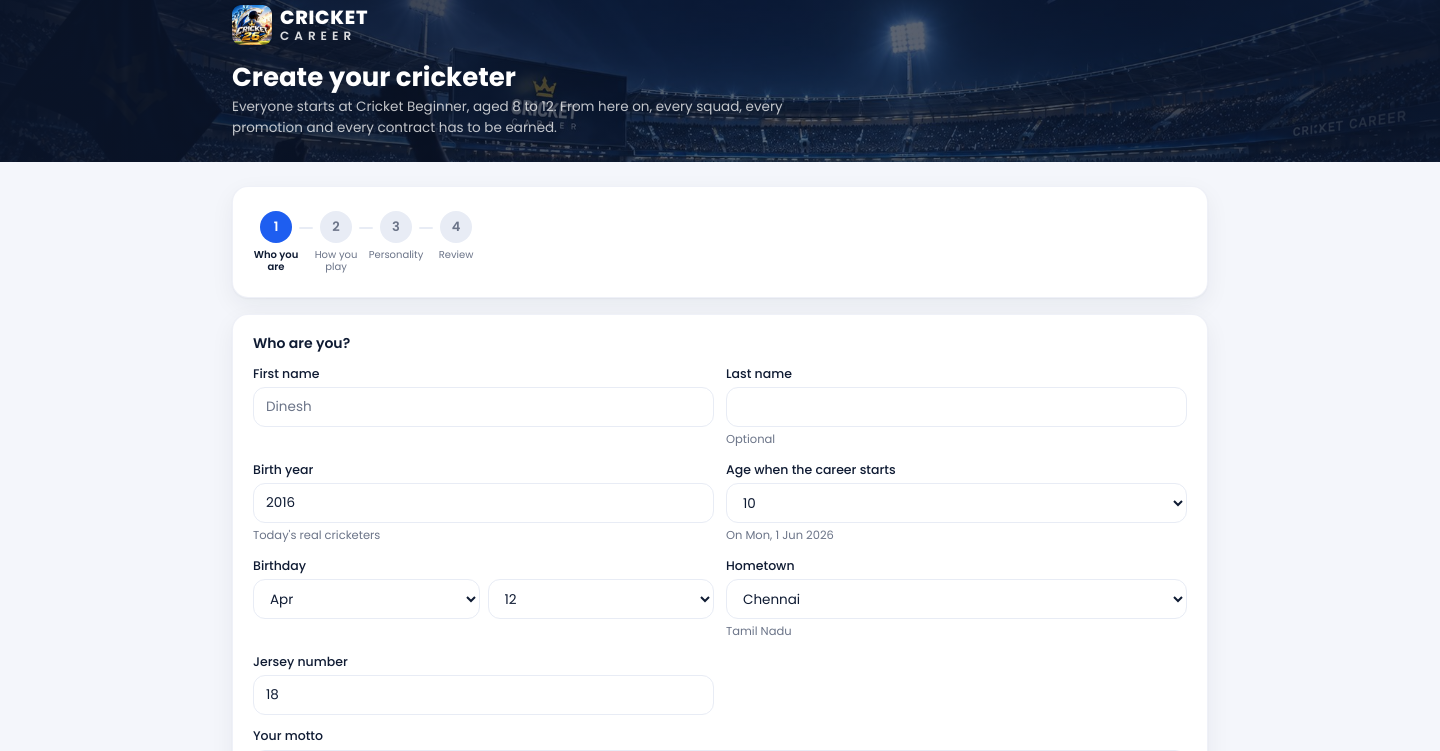
Test: NewCareer wizard › honours the slot in the URL and warns on overwrite
Type "Arun" into the field labelled "First name" at (484,407), box x1=253 y1=387 x2=714 y2=427
(page scrolled)
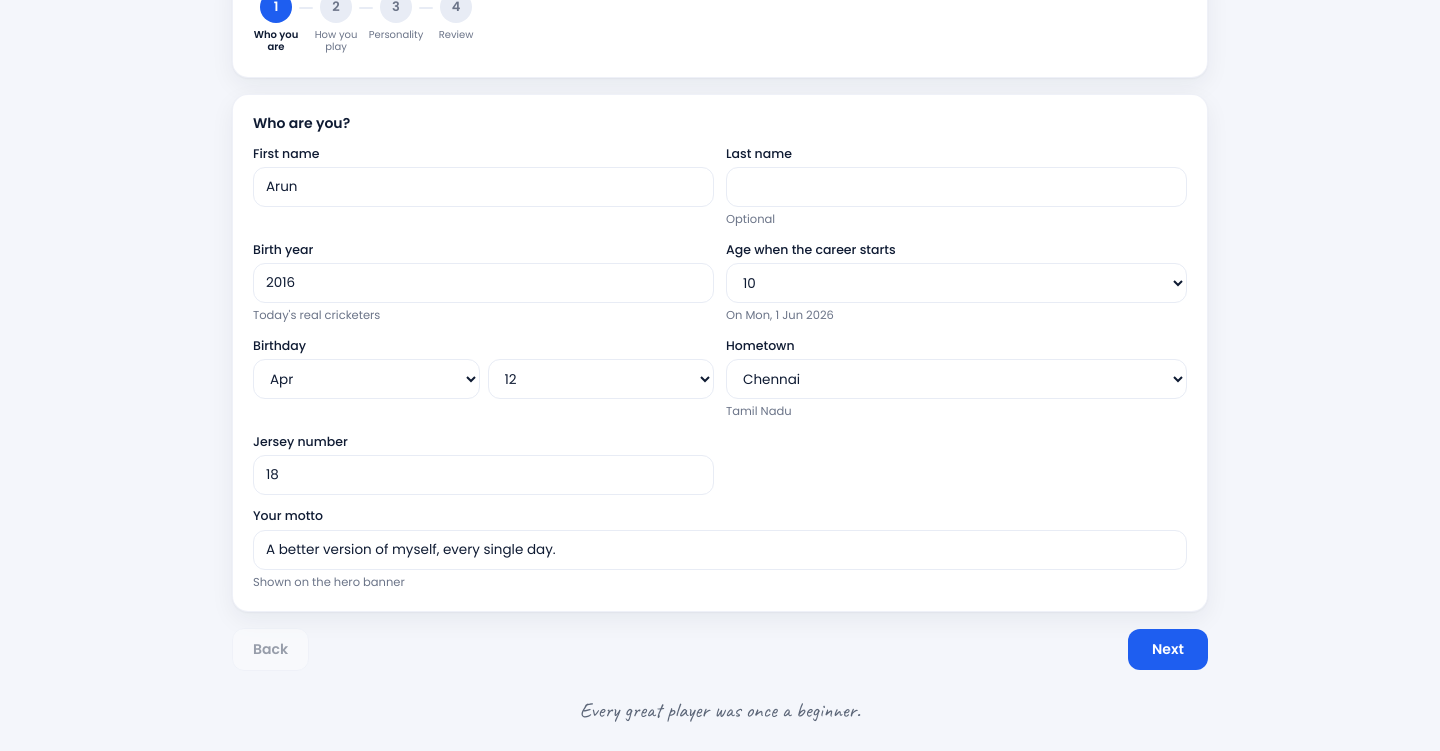
Click the button "Next" at (1168,650), box x1=1128 y1=629 x2=1208 y2=670
(page scrolled)
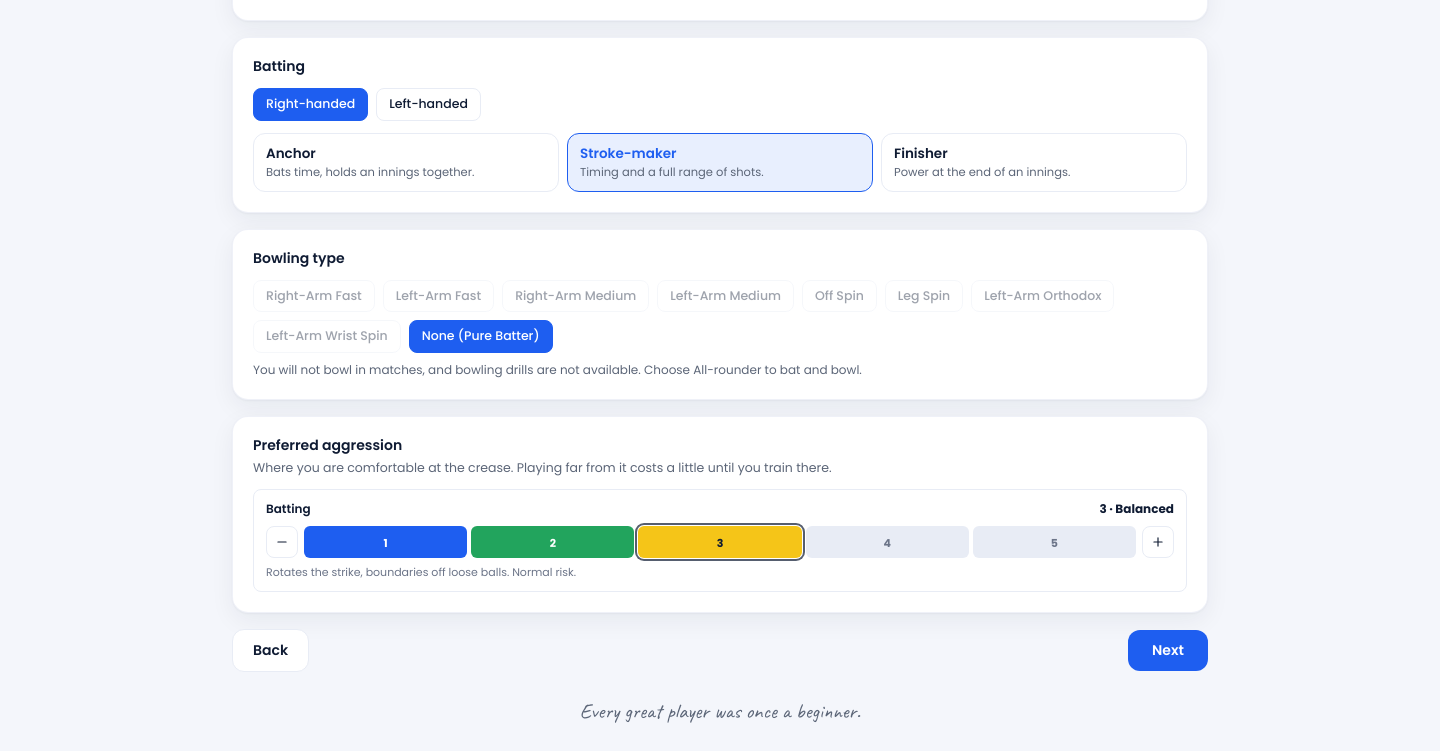
Click the button "Next" at (1168,650), box x1=1128 y1=630 x2=1208 y2=671
(page scrolled)
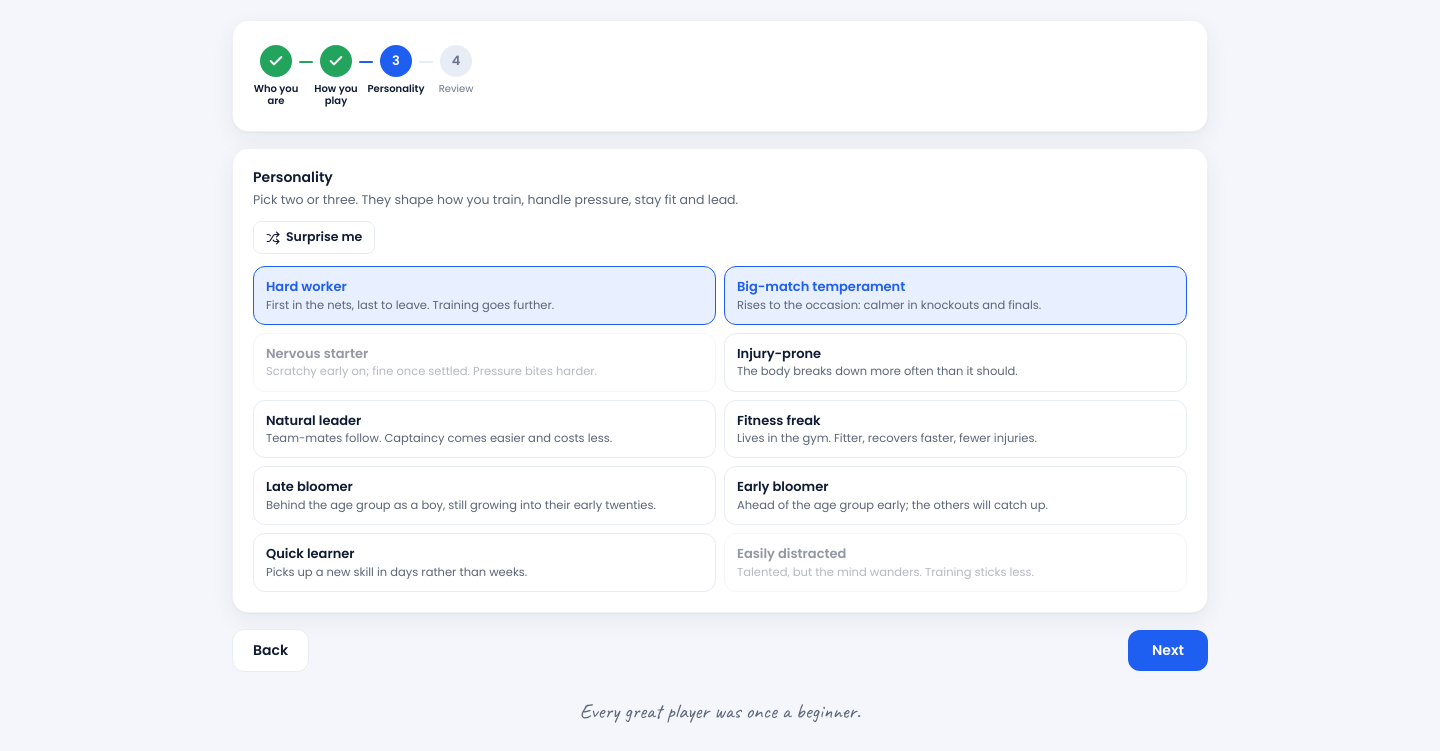
Click the button "Next" at (1168,650), box x1=1128 y1=630 x2=1208 y2=671
(page scrolled)
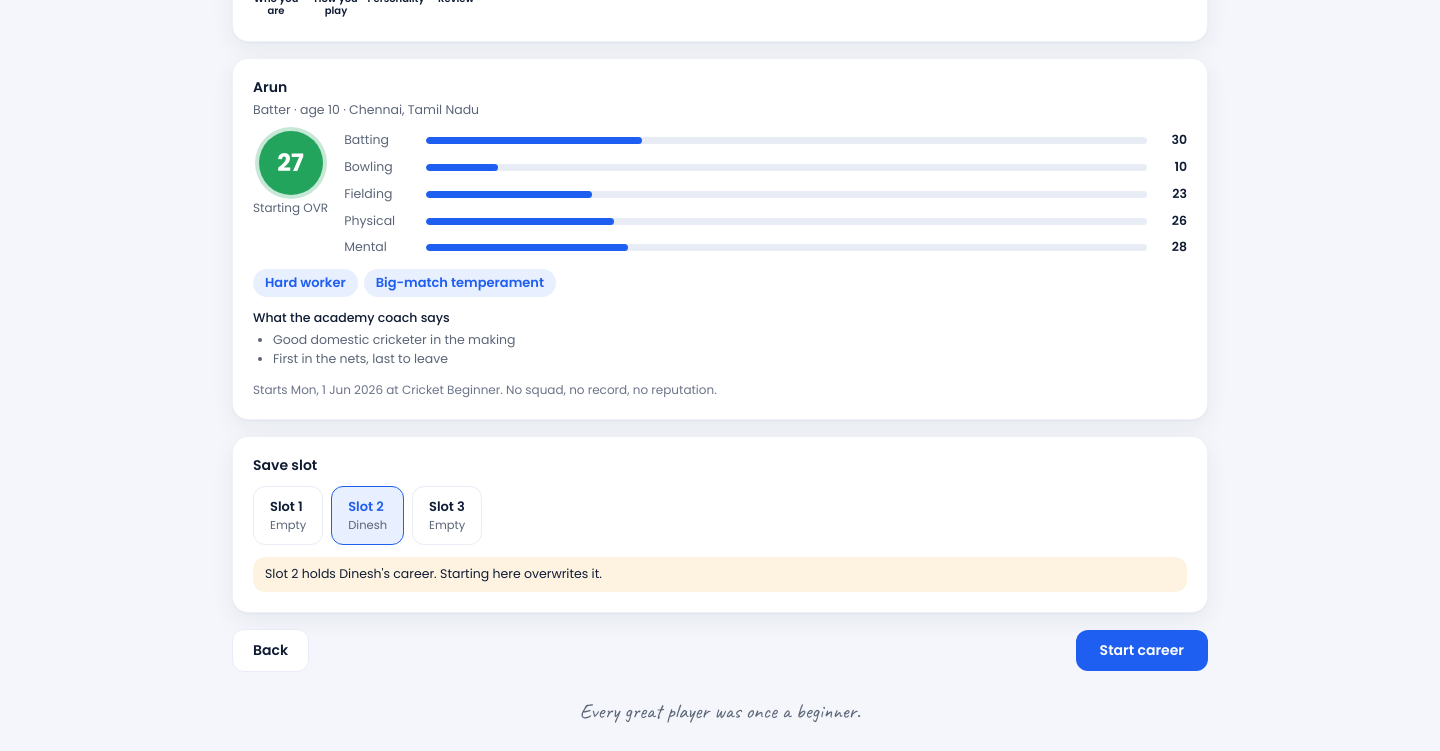
Expected: the text "Slot 2 holds Dinesh's career. Starting here overwrites it." is shown, x1=253 y1=557 x2=1187 y2=592
